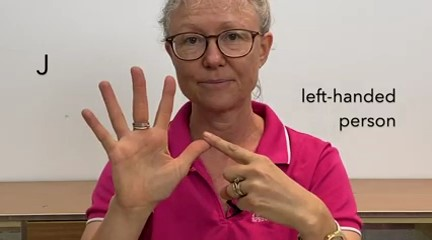J: (72, 59, 288, 228)
